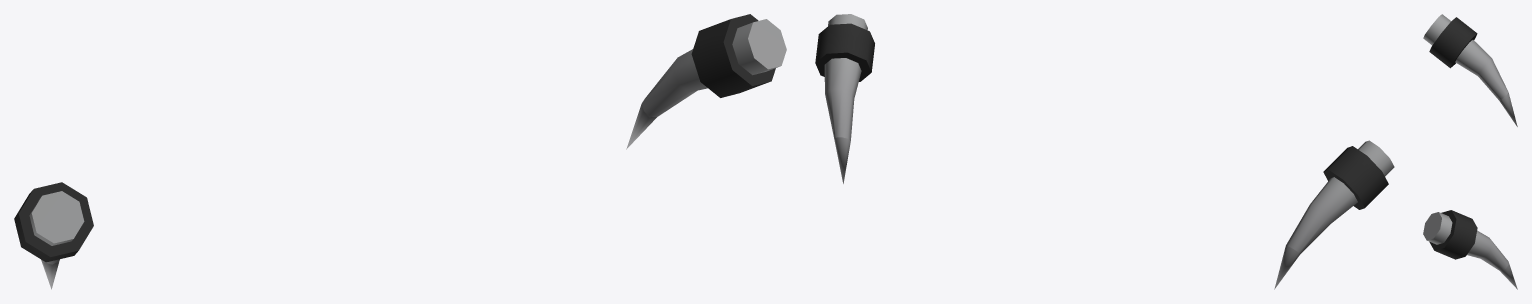
The model's file is Earring_11.fbx.
The picture shows the model from 3 angles, left to right: view 1: azimuth 30°, elevation 25°; view 2: azimuth 150°, elevation 25°; view 3: azimuth 270°, elevation 25°; orthographic projection. The views are drawn at different scales.
Visible parts, largest first — view 1: Earring_11; view 2: Earring_11; view 3: Earring_11.
Boxes of the visible parts, box(x1,y1,x2,y2) form: Earring_11: box(14, 14, 786, 289); Earring_11: box(815, 14, 1394, 289); Earring_11: box(1423, 14, 1517, 289).
Bounding box in the file's own units: 55.9 × 11.59 × 10.54.
